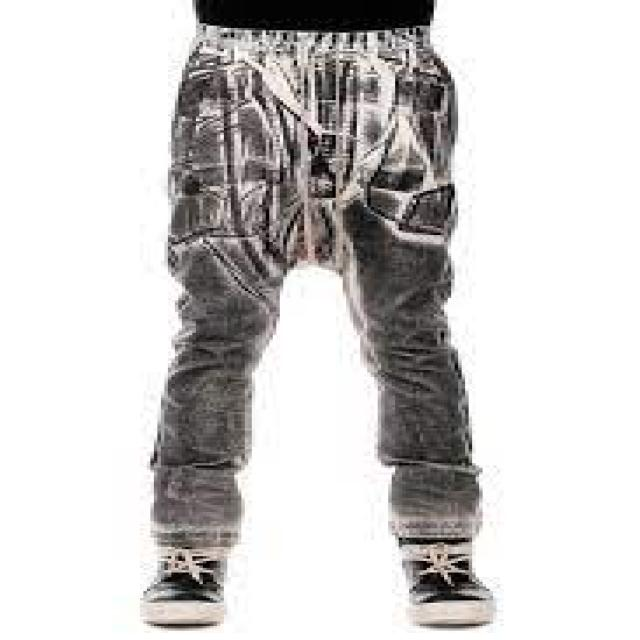long-pants: (142, 24, 488, 545)
